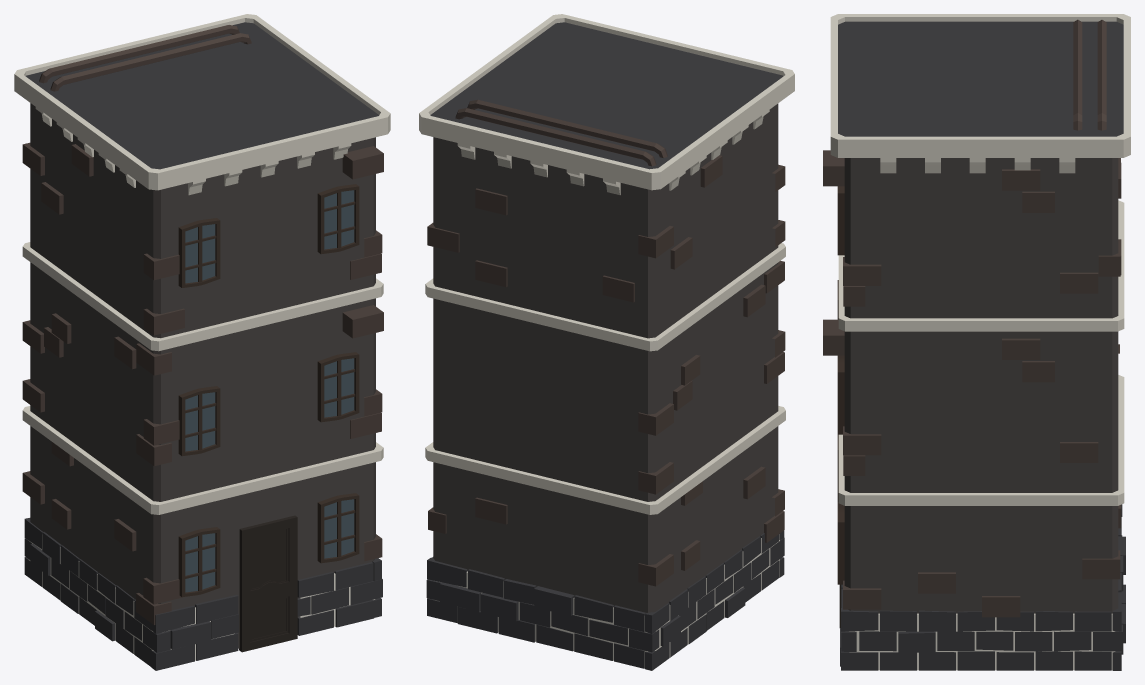
The model's file is tokyo-block-small.glb.
3 renders of one model, left to right at view 1: azimuth 30°, elevation 25°; view 2: azimuth 150°, elevation 25°; view 3: azimuth 270°, elevation 25°, orthographic. The views are drawn at different scales.
Size of the model in its own units: 1.91 by 3.85 by 1.97.
